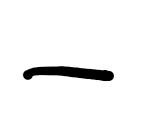minus: (23, 66, 113, 82)
